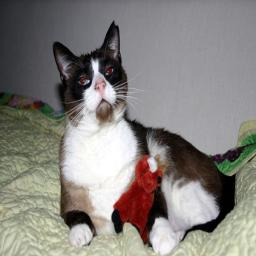catnose: (94, 80, 107, 96)
